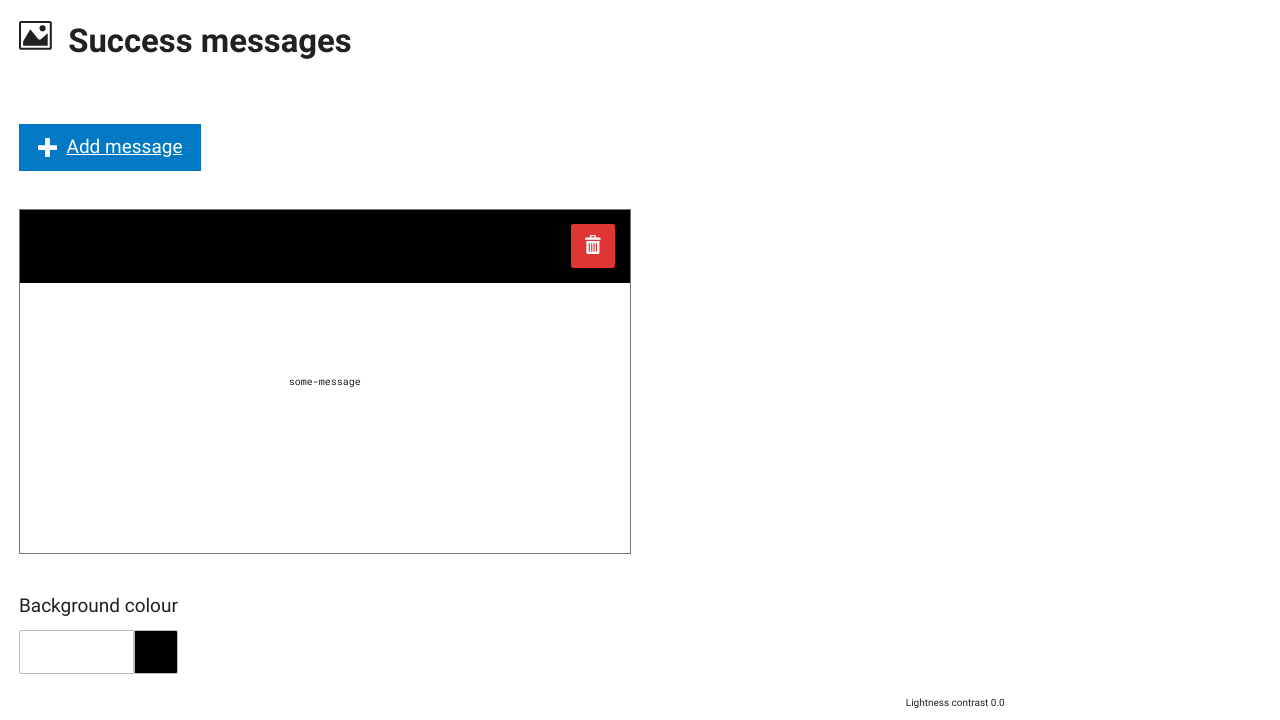
Scenario: should allow success messages to be removed
Step 1. Click the button "Remove some-message" → (593, 246), box [571,224,615,268]
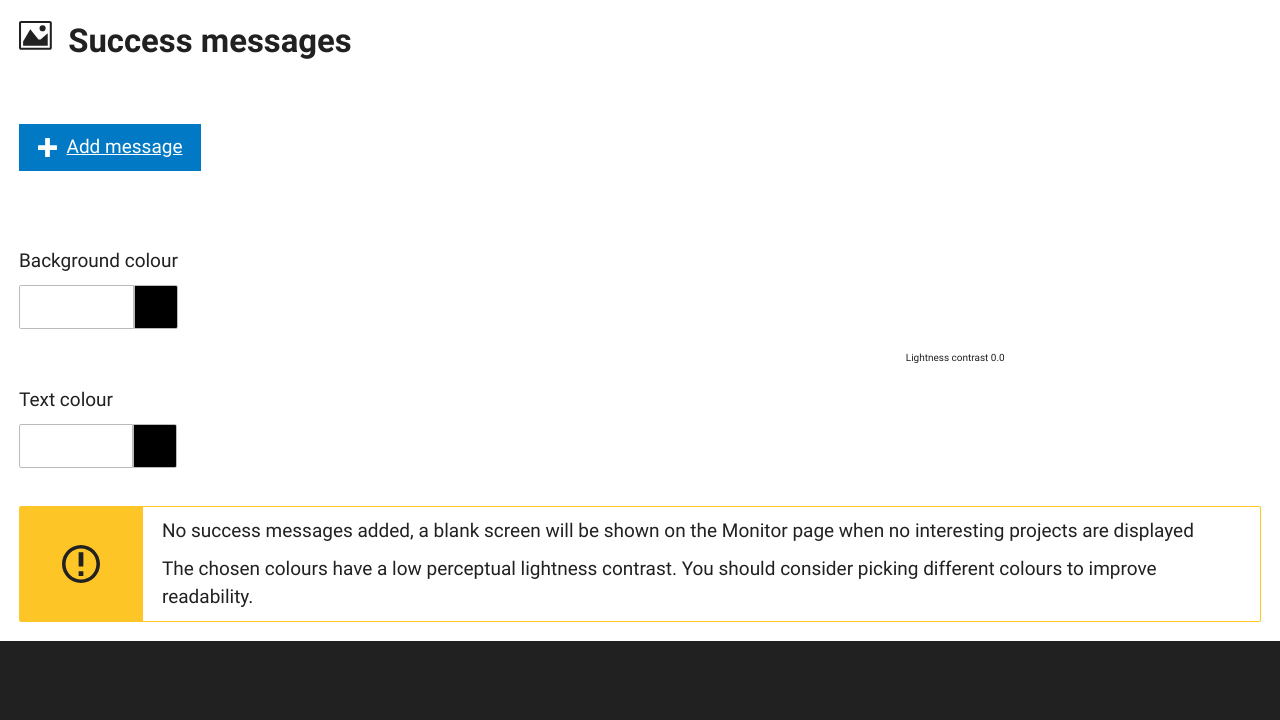
Expected: the text "some-message" is gone
